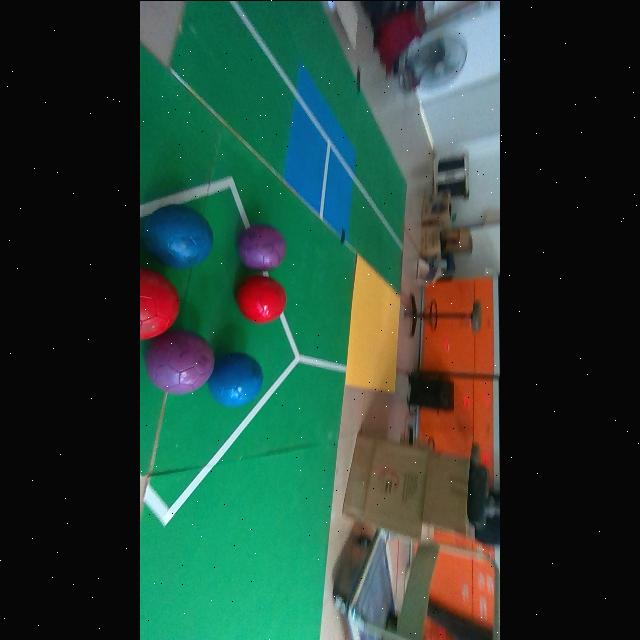B: (143, 203, 213, 269), (209, 352, 263, 406)
P: (146, 329, 214, 393), (238, 225, 286, 270)
R: (140, 267, 179, 339), (237, 275, 286, 323)
